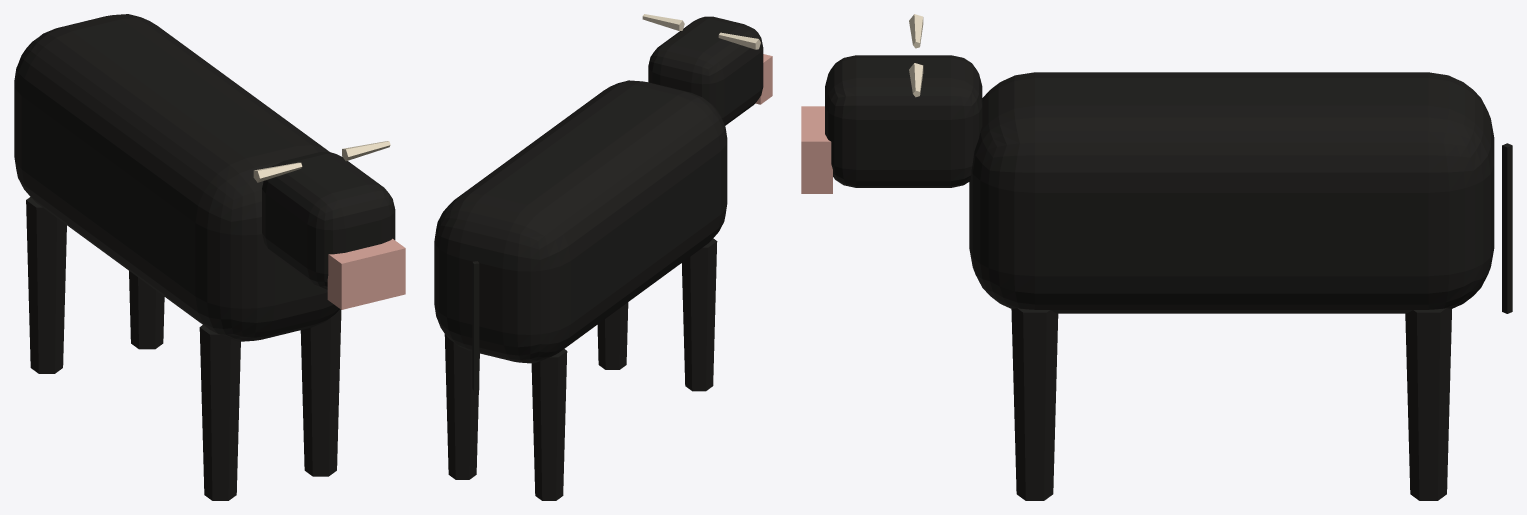
Rendered from cow_c.glb.
3 renders of one model, left to right at view 1: azimuth 30°, elevation 25°; view 2: azimuth 150°, elevation 25°; view 3: azimuth 270°, elevation 25°, orthographic. The views are drawn at different scales.
Visible parts, largest first — view 1: cow; view 2: cow; view 3: cow.
Boxes of the visible parts, <box> form: cow: <box>14,14,405,500</box>; cow: <box>434,14,772,500</box>; cow: <box>801,14,1512,500</box>.
Bounding box in the file's own units: 0.75 × 1.75 × 2.71.
